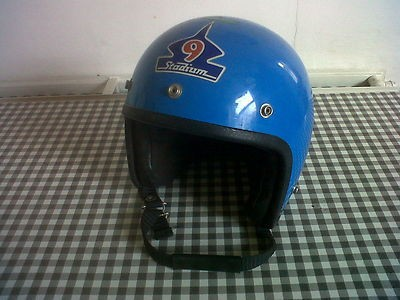with_helmet: (124, 13, 312, 230)
